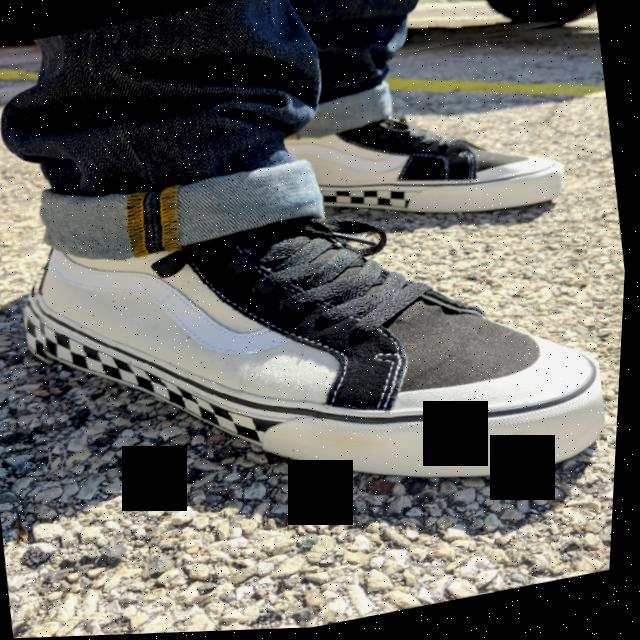shoe: (0, 24, 638, 625), (295, 0, 594, 279)
